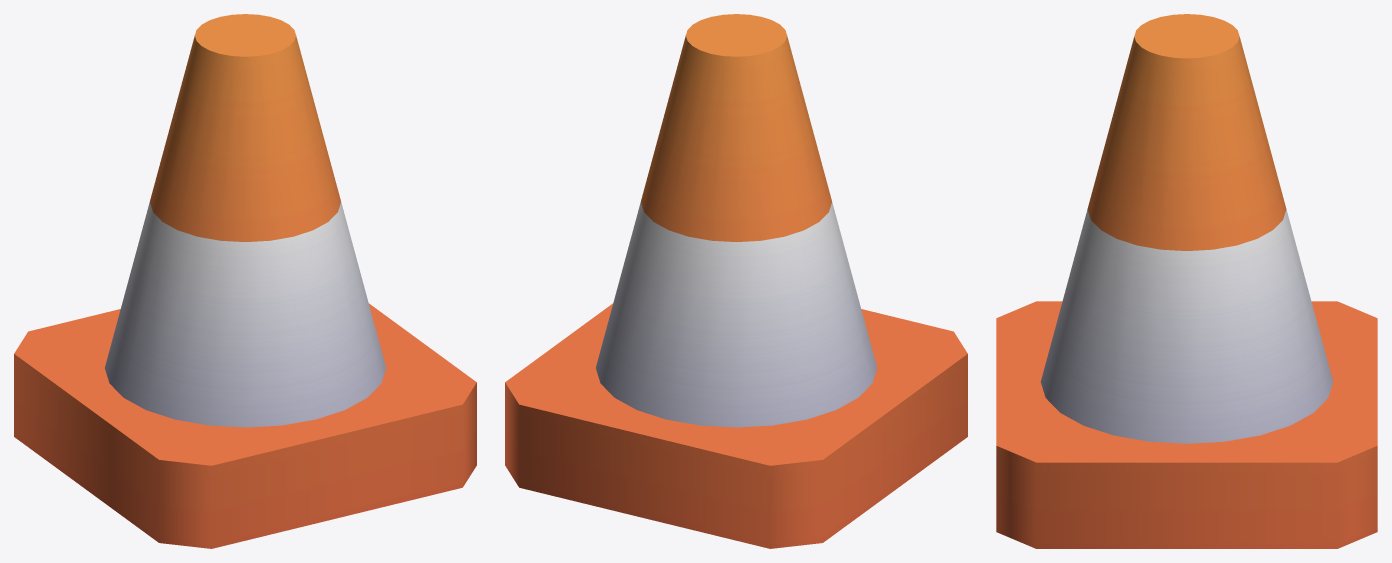
File: VLC.fbx
3 renders of one model, left to right at view 1: azimuth 30°, elevation 25°; view 2: azimuth 150°, elevation 25°; view 3: azimuth 270°, elevation 25°, orthographic. The views are drawn at different scales.
Parts seen in each view (by area): view 1: vlc; view 2: vlc; view 3: vlc.
Part boxes in pixels (bbox=[...]): vlc: bbox=[14, 14, 476, 548]; vlc: bbox=[505, 14, 967, 548]; vlc: bbox=[996, 14, 1377, 548].
Bounding box in the file's own units: 0.4762 × 0.5952 × 0.4762.
1 material, 1 textured.
